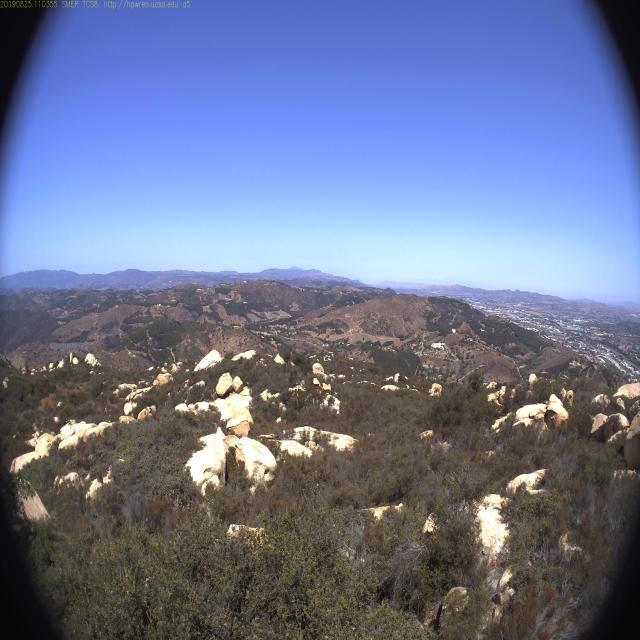smoke: (352, 274, 361, 284)
